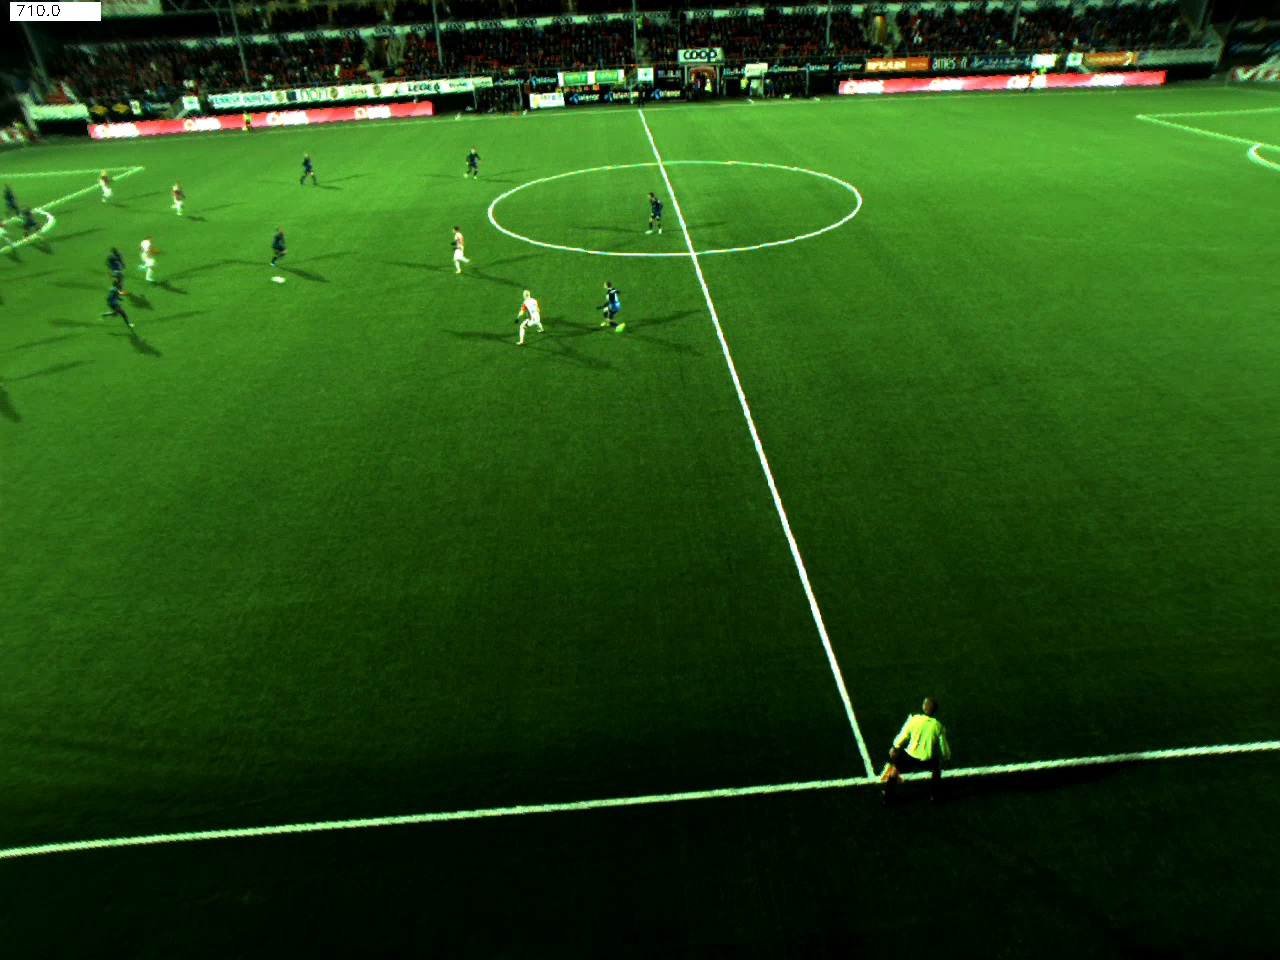blue: (592, 278, 630, 339), (96, 285, 133, 331), (639, 188, 669, 238), (269, 220, 291, 275), (19, 206, 52, 242), (462, 139, 484, 185), (295, 149, 321, 185), (105, 246, 128, 284), (2, 175, 21, 220)
red: (512, 287, 551, 349), (442, 220, 477, 278), (135, 234, 164, 285), (164, 174, 188, 220), (95, 169, 120, 212)
yellow: (877, 691, 958, 810)
